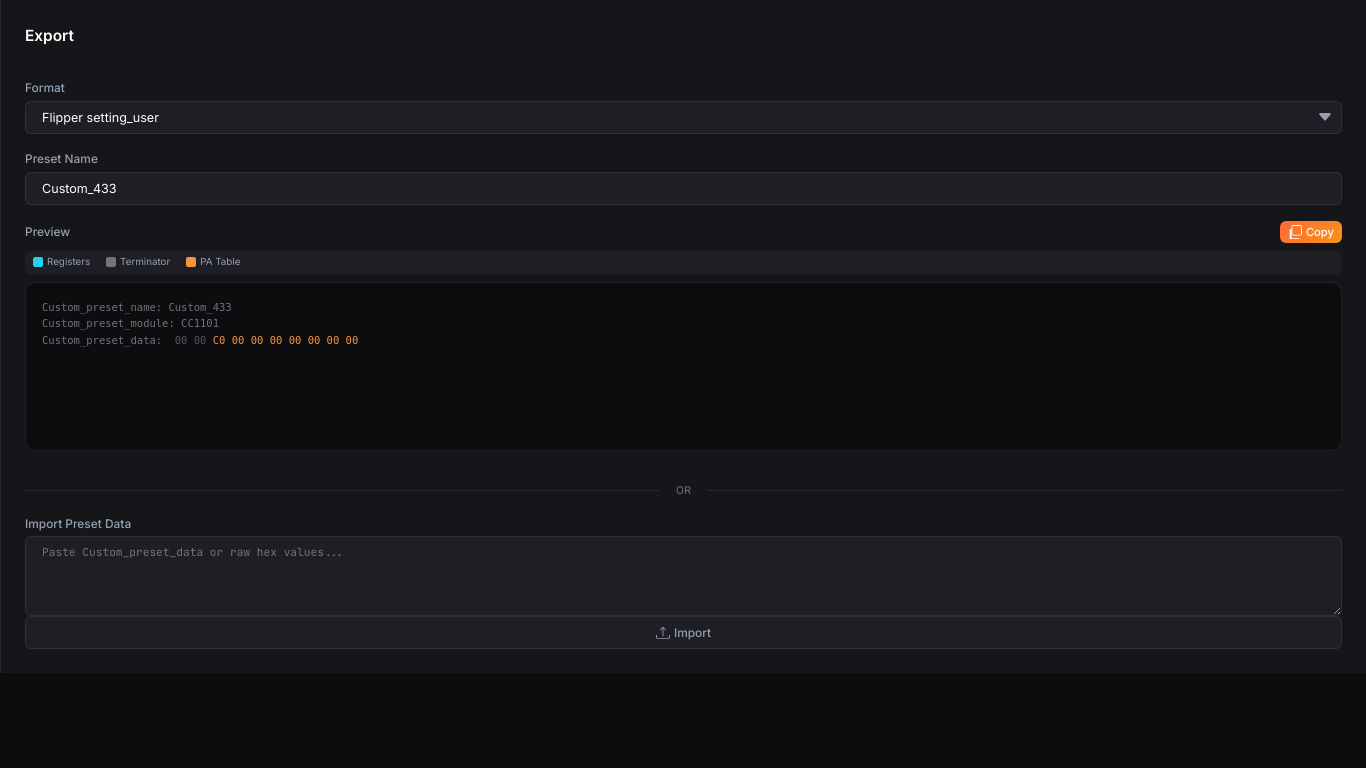
ExportPanel Component › changes format when selector changes
Select "C Array" in the dropdown. click: (684, 118)
box: x1=25 y1=101 x2=1342 y2=134
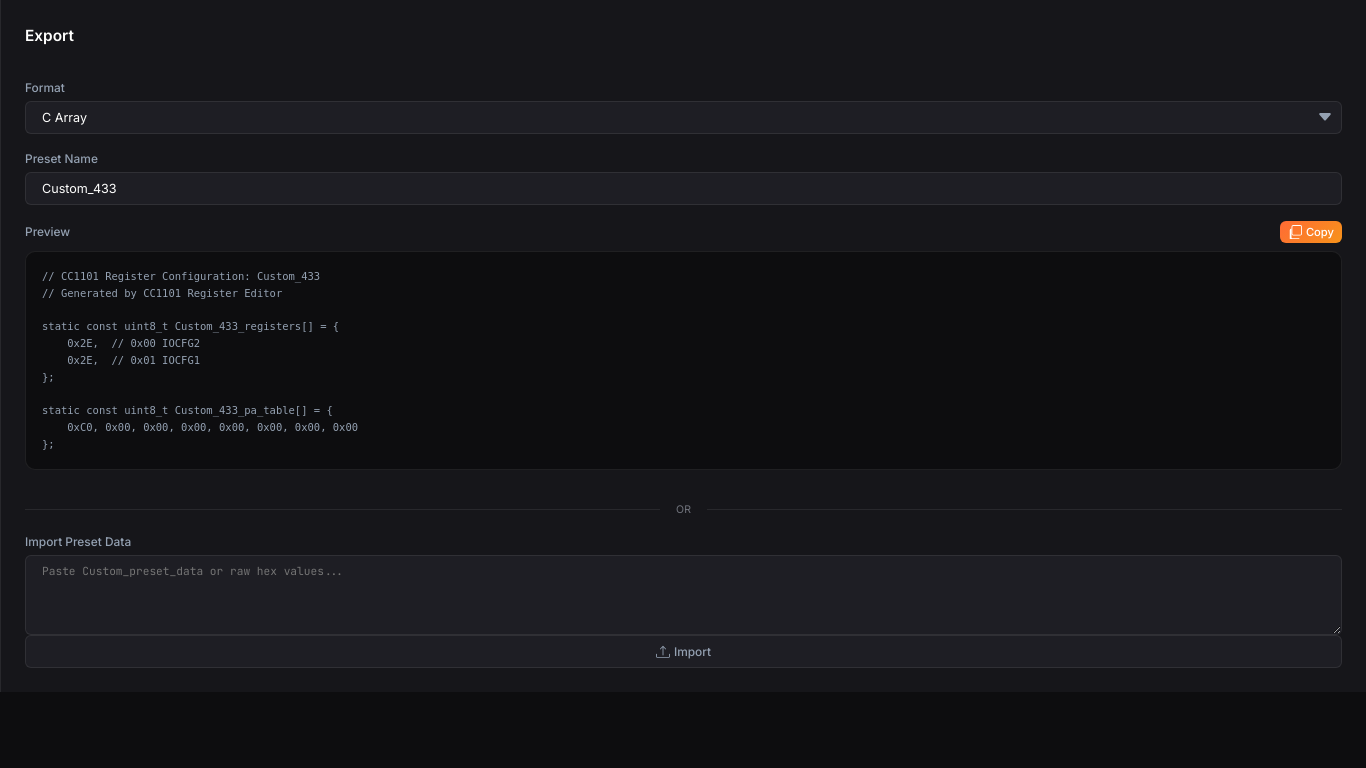
Now the text "static const uint8_t" is shown, box x1=42 y1=270 x2=358 y2=450
